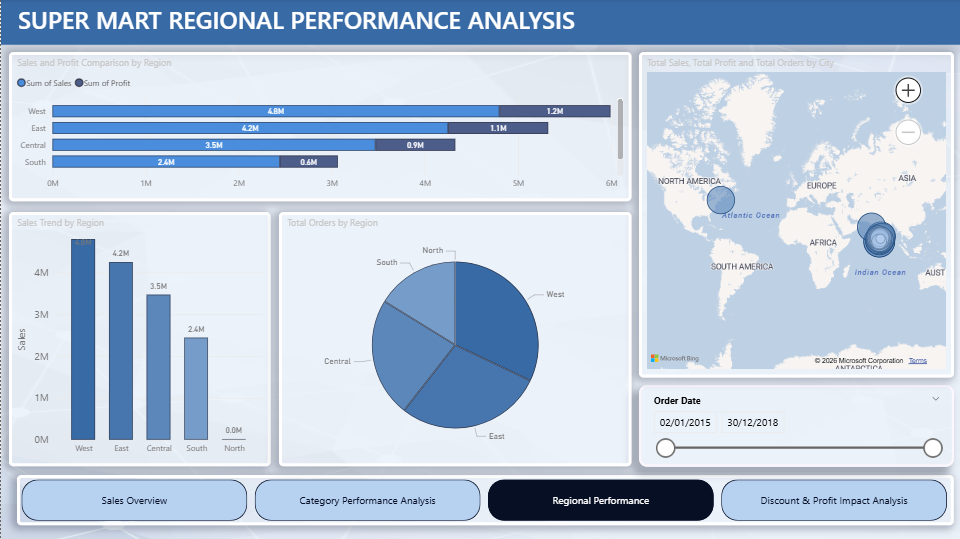

The page's visual inventory and layout, read from the dashboard file:
{"tool":"powerbi","page":{"name":"Regional Performance","canvas":[1280,720],"ordinal":2},"visuals":[{"type":"columnChart","title":"Sales Trend by Region","fields":{"Category":["Supermart.Region"],"Y":["Sum(Supermart.Sales)"]},"box":[10,284.3,348.6,338.6],"z":0},{"type":"textbox","box":[0,0,1280,60.6],"z":1000},{"type":"pageNavigator","box":[21,634,1249,67],"z":2000},{"type":"slicer","fields":{"Values":["Supermart.Order Date"]},"box":[850,514.3,420,108.6],"z":3000},{"type":"map","fields":{"Category":["Supermart.City"],"Size":["Supermart.Total Sales"]},"box":[850,70,420,434.3],"z":4000},{"type":"barChart","title":"Sales and Profit Comparison by Region","fields":{"Category":["Supermart.Region"],"Y":["Sum(Supermart.Sales)","Sum(Supermart.Profit)"]},"box":[10,70,830,198.6],"z":5000},{"type":"pieChart","fields":{"Category":["Supermart.Region"],"Y":["Supermart.Total Orders"]},"box":[370,284.3,470,338.6],"z":6000}]}

Visuals, with their boxes in screenshot pixels (x1, y1, x2, y2), scaled from the page's 1280x720 canvas onto the 960x539 screenshot:
"Sales Trend by Region" columnChart: 8,213,269,466
textbox: 0,0,959,45
pageNavigator: 16,475,952,525
slicer - Supermart.Order Date: 638,385,952,466
map - Supermart.City x Supermart.Total Sales: 638,52,952,378
"Sales and Profit Comparison by Region" barChart: 8,52,630,201
pieChart - Supermart.Region x Supermart.Total Orders: 278,213,630,466
